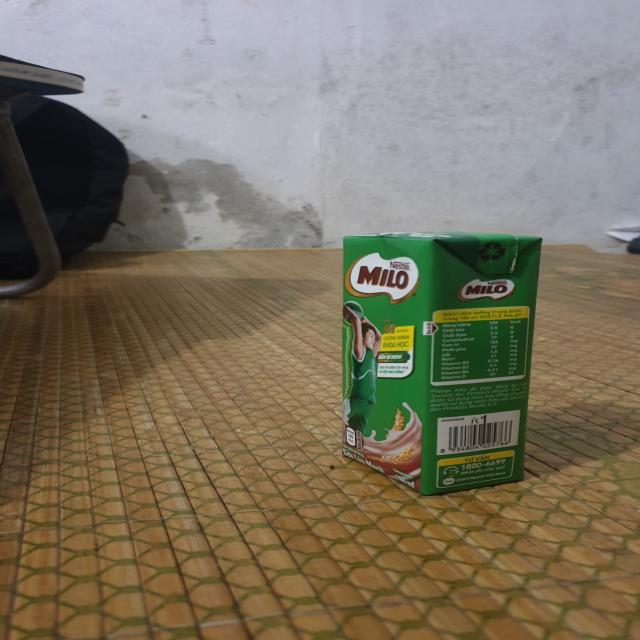Milo: (340, 228, 537, 496)
